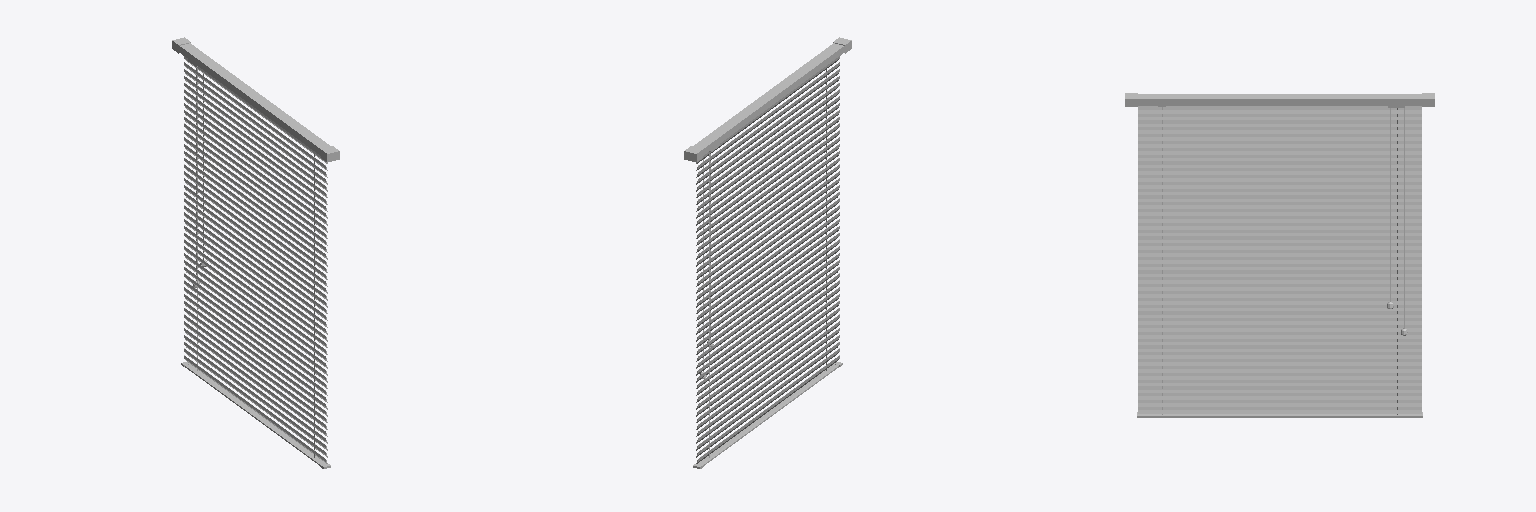
The model's file is window.obj.
3 renders of one model, left to right at view 1: azimuth 30°, elevation 25°; view 2: azimuth 150°, elevation 25°; view 3: azimuth 270°, elevation 25°, orthographic.
Bounding box in the file's own units: 0.0574 × 1.41 × 1.24.